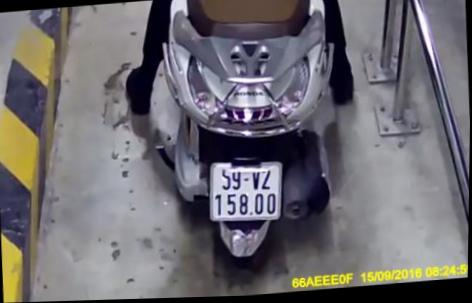LP: (208, 157, 285, 226)
